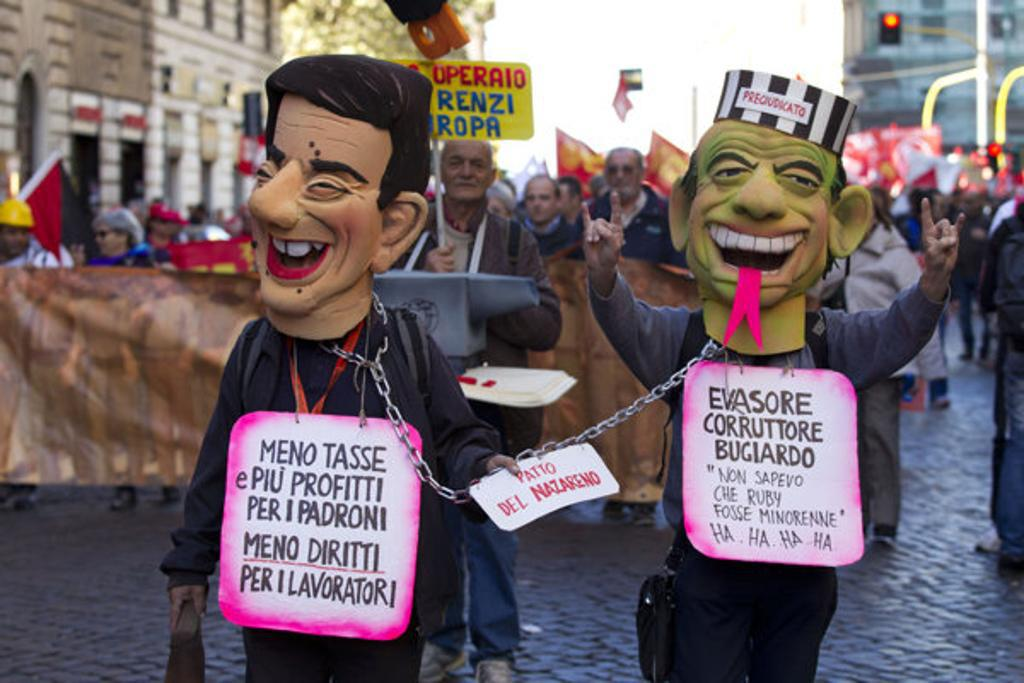face: (444, 140, 490, 199), (607, 153, 639, 196), (472, 199, 506, 238), (526, 179, 557, 221), (94, 226, 120, 255), (4, 227, 27, 256), (557, 184, 575, 211), (964, 197, 982, 216), (932, 195, 946, 217), (163, 220, 177, 237), (151, 219, 165, 235), (130, 209, 142, 224), (193, 209, 202, 219)
